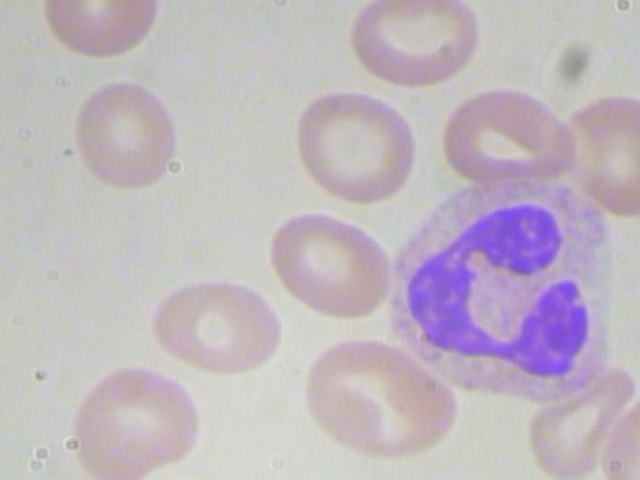RBC: (299, 329, 460, 465), (57, 66, 203, 202), (279, 83, 423, 208), (62, 360, 207, 480), (434, 79, 591, 184), (269, 200, 400, 324), (133, 279, 287, 373), (337, 0, 487, 93), (556, 94, 640, 220), (42, 0, 166, 64)
WBC: (387, 171, 624, 407)
